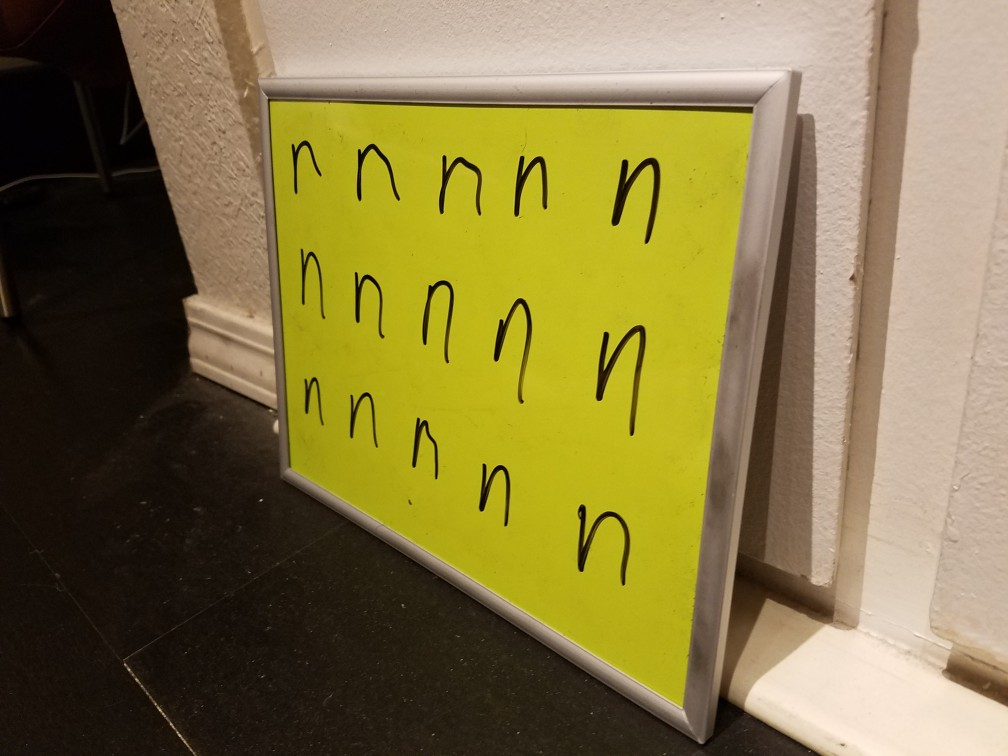n: (592, 146, 679, 250), (587, 311, 657, 440), (482, 288, 547, 416), (568, 485, 639, 599), (465, 441, 522, 540), (427, 136, 491, 224), (399, 394, 453, 494), (504, 142, 565, 229), (415, 268, 462, 365), (350, 130, 407, 205), (341, 379, 388, 463), (285, 117, 327, 203), (288, 246, 338, 318), (350, 258, 389, 344), (297, 366, 327, 434)
